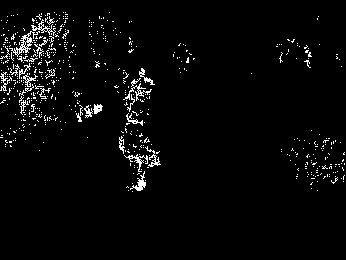person: (115, 111, 163, 203), (125, 65, 167, 115)
